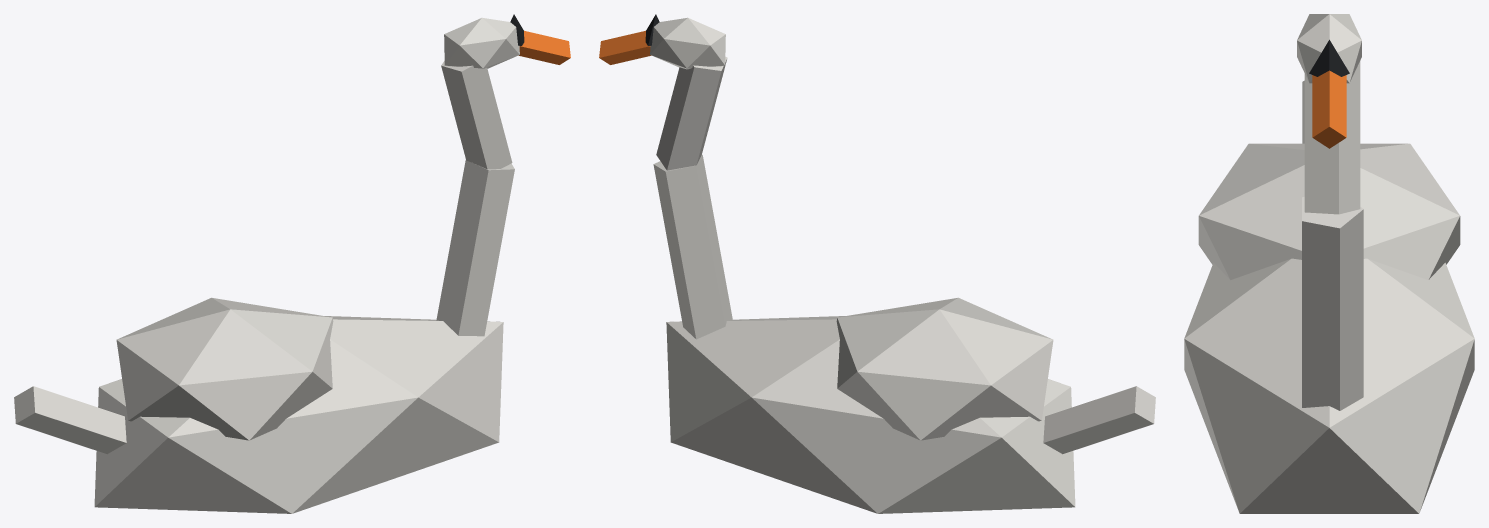
File: svan.glb
3 views of the same model, side by side, from view 1: azimuth 30°, elevation 25°; view 2: azimuth 150°, elevation 25°; view 3: azimuth 270°, elevation 25° (orthographic). The views are drawn at different scales.
Visible parts, largest first — view 1: svan; view 2: svan; view 3: svan.
Part boxes in pixels (x1,y1,x2,y2): svan: (14, 14, 570, 513); svan: (599, 14, 1155, 513); svan: (1184, 14, 1474, 513).
Size of the model in its own units: 1.21 by 0.936 by 0.4253.
